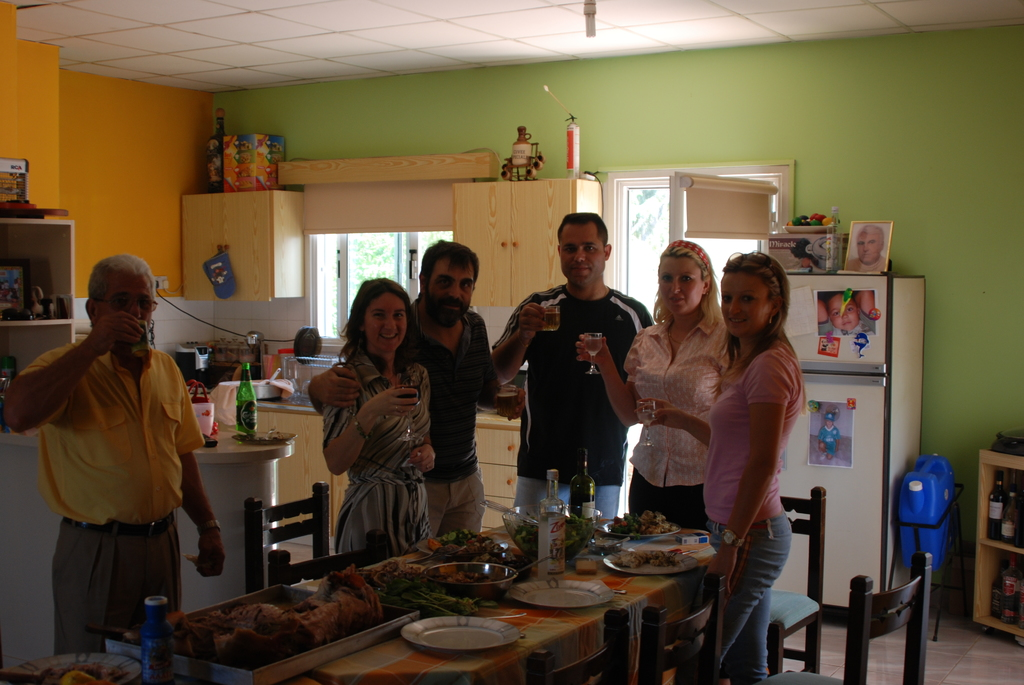Table: (0, 498, 728, 684)
